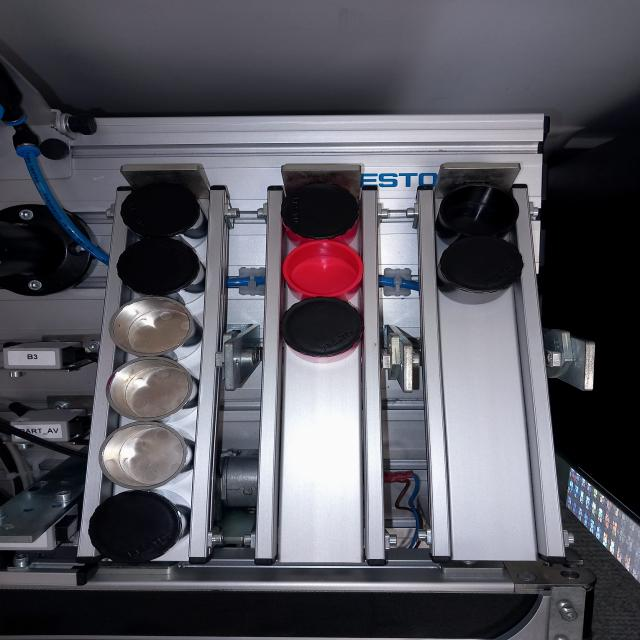NoLid: (98, 351, 202, 424), (98, 423, 194, 493), (106, 300, 200, 358), (282, 245, 376, 298), (438, 186, 520, 238)
Workpiece: (84, 488, 195, 565), (112, 240, 210, 304), (116, 180, 210, 244), (283, 298, 368, 364), (440, 236, 521, 304), (278, 180, 364, 241)
